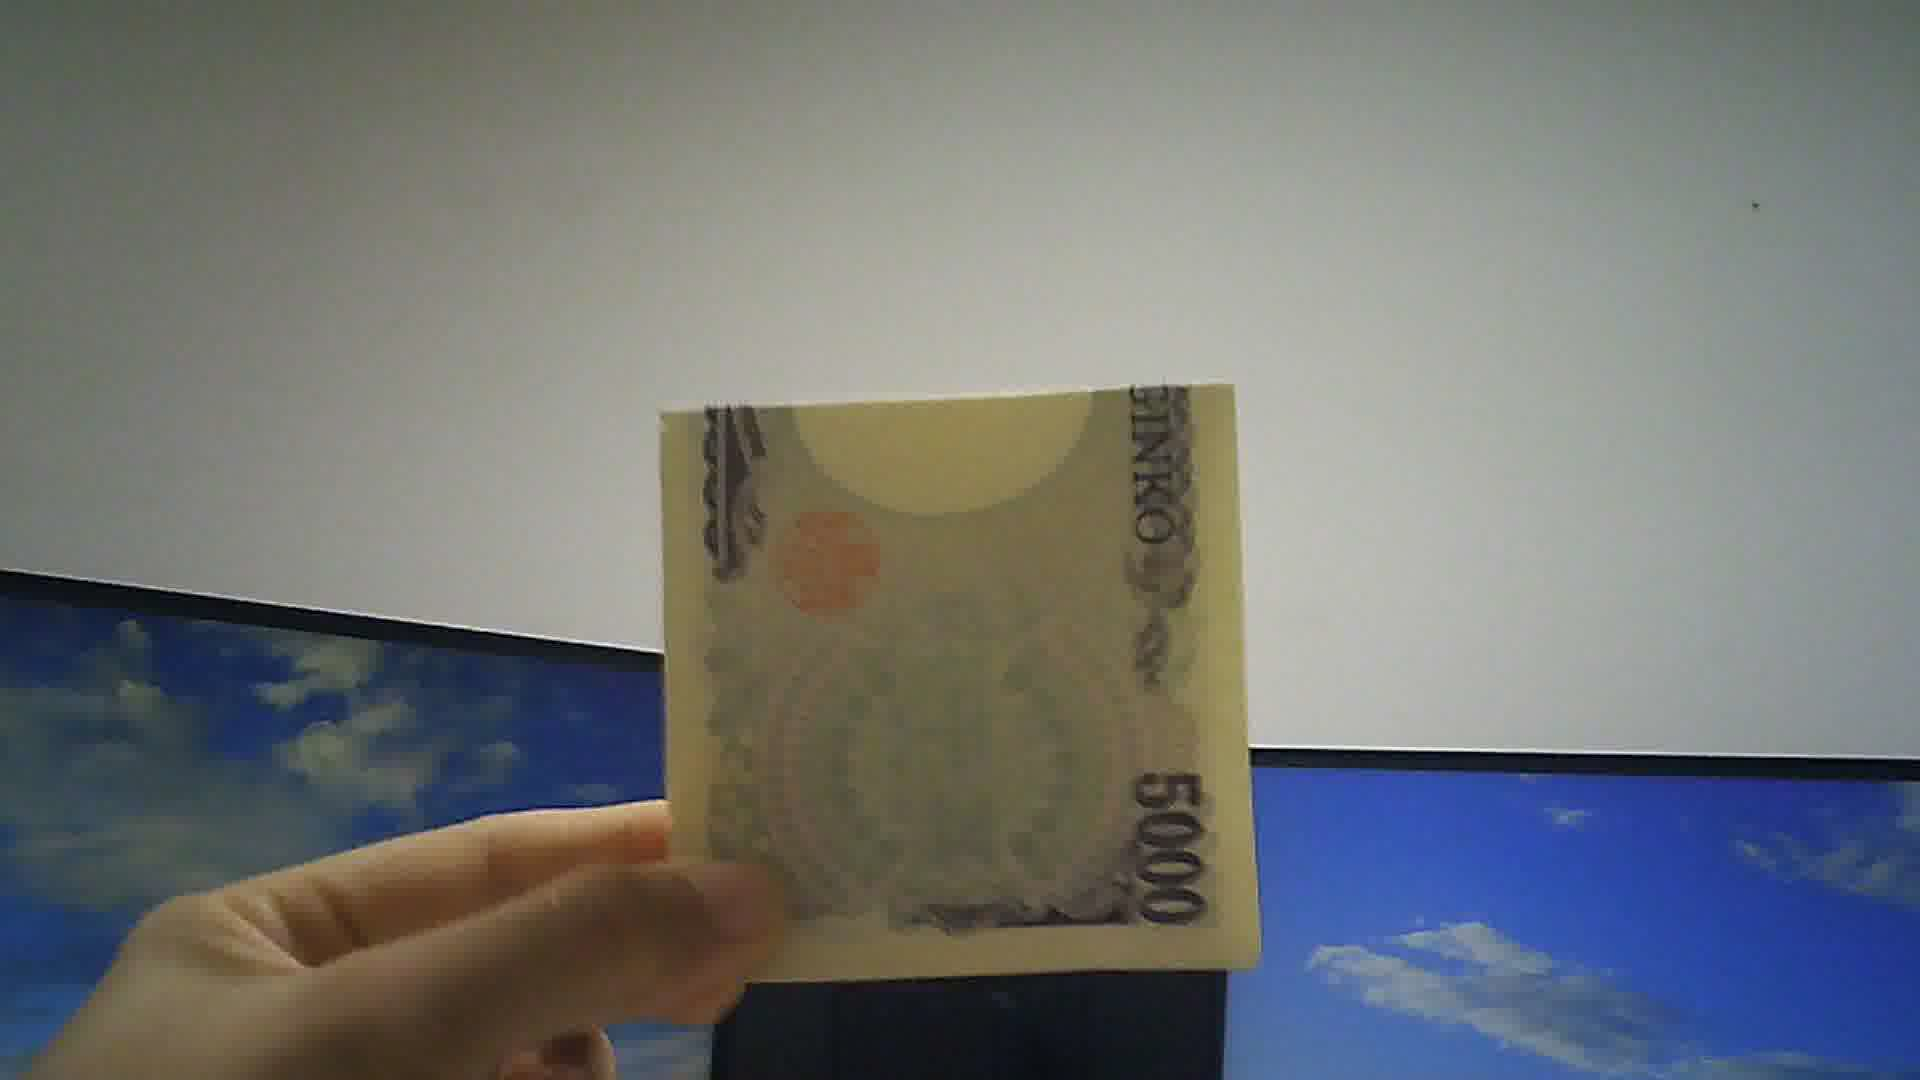5,000 Yen: (628, 356, 1279, 986)
